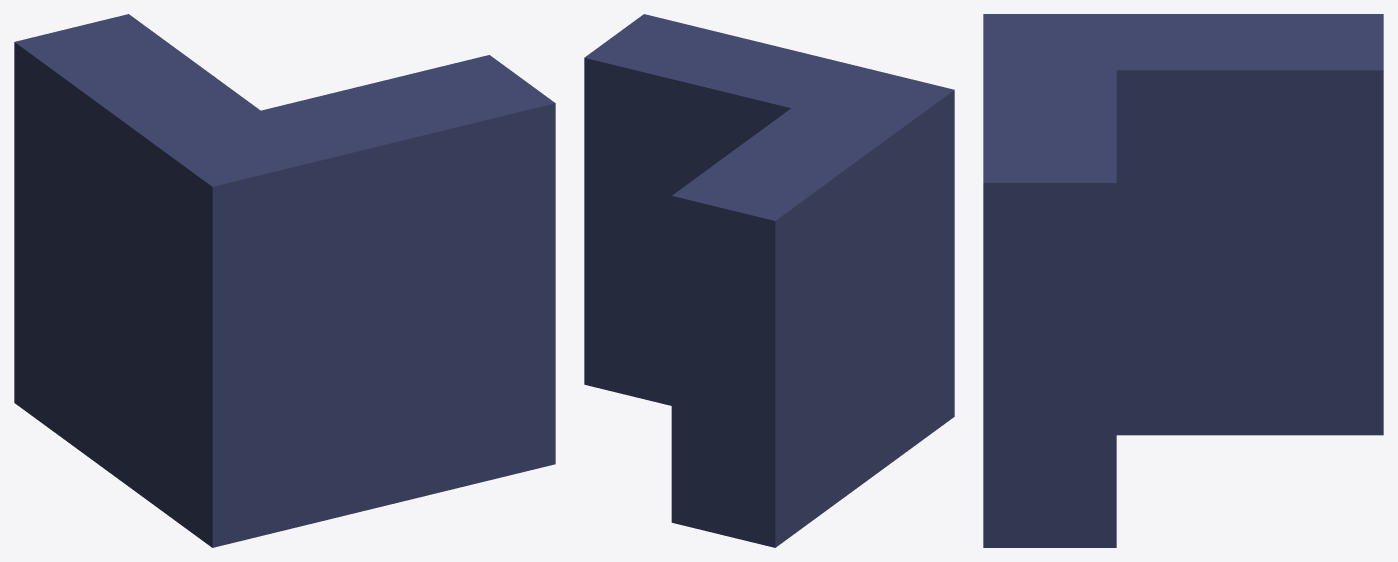
Rendered from HugeBlock.fbx.
3 views of the same model, side by side, from view 1: azimuth 30°, elevation 25°; view 2: azimuth 150°, elevation 25°; view 3: azimuth 270°, elevation 25° (orthographic). The views are drawn at different scales.
Visible parts, largest first — view 1: Cube.005; view 2: Cube.005; view 3: Cube.005.
Part boxes in pixels (x1=…): Cube.005: x1=14, y1=14, x2=555, y2=547; Cube.005: x1=584, y1=14, x2=954, y2=547; Cube.005: x1=983, y1=14, x2=1383, y2=547.
Bounding box in the file's own units: 600 × 603 × 600.
